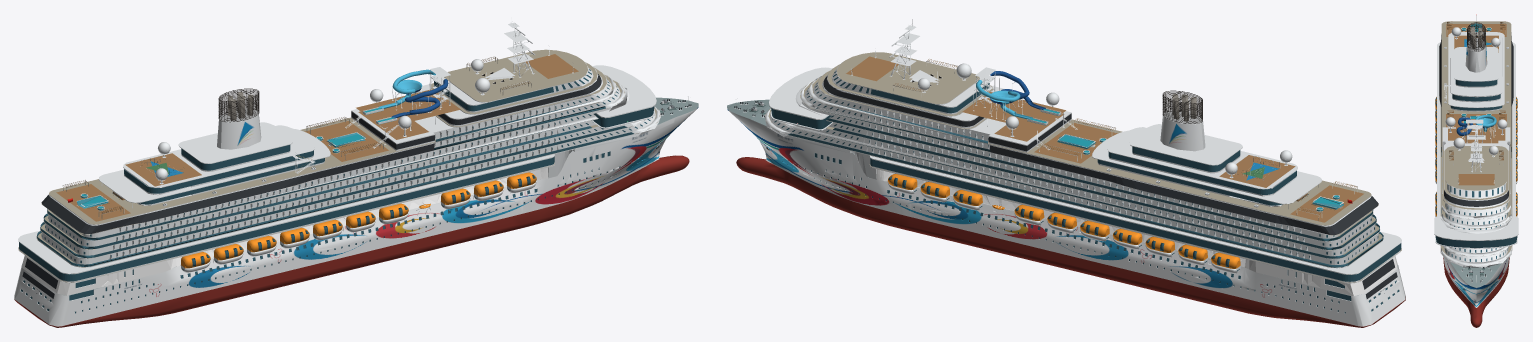
Rendered from adora-magic-city-ship-lod2.glb.
3 views of the same model, side by side, from view 1: azimuth 30°, elevation 25°; view 2: azimuth 150°, elevation 25°; view 3: azimuth 270°, elevation 25° (orthographic). The views are drawn at different scales.
Parts seen in each view (by area): view 1: STATIC_14_G03_WHITE, STATIC_24_G04_GLASS, STATIC_9_AMC_HULL_STARBOARD, STATIC_13_G03_DECK, STATIC_29_MAT_HULL_RED_G02, STATIC_15_G04_AM_1, STATIC_12_G03_DARK, STATIC_25_G04_ORANGE, STATIC_30_MAT_HULL_WHITE_G02, STATIC_28_G04_TOP_SOOT, STATIC_7_AMC_FUNNEL_LOGO, STATIC_10_AMC_NONSLIP_DECK (+4 smaller); view 2: STATIC_14_G03_WHITE, STATIC_24_G04_GLASS, STATIC_8_AMC_HULL_PORT, STATIC_13_G03_DECK, STATIC_29_MAT_HULL_RED_G02, STATIC_15_G04_AM_1, STATIC_12_G03_DARK, STATIC_25_G04_ORANGE, STATIC_30_MAT_HULL_WHITE_G02, STATIC_7_AMC_FUNNEL_LOGO, STATIC_28_G04_TOP_SOOT, STATIC_10_AMC_NONSLIP_DECK (+3 smaller); view 3: STATIC_14_G03_WHITE, STATIC_13_G03_DECK, STATIC_15_G04_AM_1, STATIC_24_G04_GLASS, STATIC_12_G03_DARK, STATIC_29_MAT_HULL_RED_G02, STATIC_10_AMC_NONSLIP_DECK, STATIC_8_AMC_HULL_PORT, STATIC_9_AMC_HULL_STARBOARD, STATIC_28_G04_TOP_SOOT, STATIC_7_AMC_FUNNEL_LOGO, STATIC_25_G04_ORANGE (+5 smaller).
Boxes of the visible parts, <box> form: STATIC_14_G03_WHITE: <box>18,17,691,283</box>; STATIC_24_G04_GLASS: <box>19,69,654,313</box>; STATIC_9_AMC_HULL_STARBOARD: <box>32,107,698,326</box>; STATIC_13_G03_DECK: <box>18,49,659,282</box>; STATIC_29_MAT_HULL_RED_G02: <box>14,155,689,327</box>; STATIC_15_G04_AM_1: <box>56,54,578,221</box>; STATIC_12_G03_DARK: <box>22,74,601,298</box>; STATIC_25_G04_ORANGE: <box>181,172,536,268</box>; STATIC_30_MAT_HULL_WHITE_G02: <box>22,167,547,295</box>; STATIC_28_G04_TOP_SOOT: <box>218,72,512,122</box>; STATIC_7_AMC_FUNNEL_LOGO: <box>221,114,261,149</box>; STATIC_10_AMC_NONSLIP_DECK: <box>22,97,698,295</box>; STATIC_14_G03_WHITE: <box>734,19,1401,283</box>; STATIC_24_G04_GLASS: <box>771,71,1401,313</box>; STATIC_8_AMC_HULL_PORT: <box>727,109,1388,326</box>; STATIC_13_G03_DECK: <box>765,52,1401,282</box>; STATIC_29_MAT_HULL_RED_G02: <box>736,157,1405,327</box>; STATIC_15_G04_AM_1: <box>846,56,1363,222</box>; STATIC_12_G03_DARK: <box>823,76,1397,298</box>; STATIC_25_G04_ORANGE: <box>887,174,1240,268</box>; STATIC_30_MAT_HULL_WHITE_G02: <box>870,169,1397,296</box>; STATIC_7_AMC_FUNNEL_LOGO: <box>1160,115,1203,151</box>; STATIC_28_G04_TOP_SOOT: <box>912,74,1202,123</box>; STATIC_10_AMC_NONSLIP_DECK: <box>727,99,1397,295</box>; STATIC_14_G03_WHITE: <box>1434,15,1518,289</box>; STATIC_13_G03_DECK: <box>1439,21,1513,265</box>; STATIC_15_G04_AM_1: <box>1446,21,1506,185</box>; STATIC_24_G04_GLASS: <box>1435,80,1517,261</box>; STATIC_12_G03_DARK: <box>1439,35,1513,206</box>; STATIC_29_MAT_HULL_RED_G02: <box>1443,257,1509,327</box>; STATIC_10_AMC_NONSLIP_DECK: <box>1451,262,1501,287</box>; STATIC_8_AMC_HULL_PORT: <box>1476,257,1509,307</box>; STATIC_9_AMC_HULL_STARBOARD: <box>1444,258,1476,307</box>; STATIC_28_G04_TOP_SOOT: <box>1467,22,1485,51</box>; STATIC_7_AMC_FUNNEL_LOGO: <box>1465,45,1487,72</box>; STATIC_25_G04_ORANGE: <box>1435,97,1517,216</box>.
Bounding box in the file's own units: 323 × 92.44 × 47.1.
34 materials, 3 textured.
